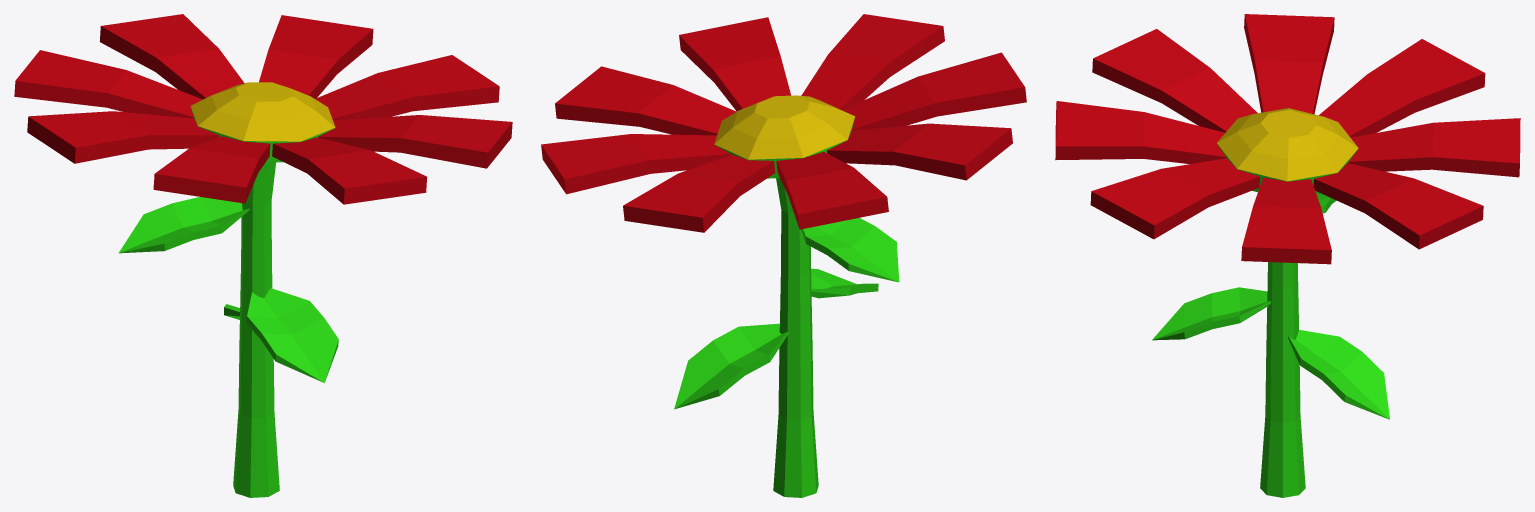
The model's file is Bloem.fbx.
3 views of the same model, side by side, from view 1: azimuth 30°, elevation 25°; view 2: azimuth 150°, elevation 25°; view 3: azimuth 270°, elevation 25° (orthographic). The views are drawn at different scales.
Parts seen in each view (by area): view 1: Cube; view 2: Cube; view 3: Cube.
Part boxes in pixels (x1,y1,x2,y2): Cube: (14, 14, 512, 497); Cube: (541, 14, 1026, 497); Cube: (1055, 14, 1520, 497).
Bounding box in the file's own units: 0.2248 × 0.2048 × 0.2261.
